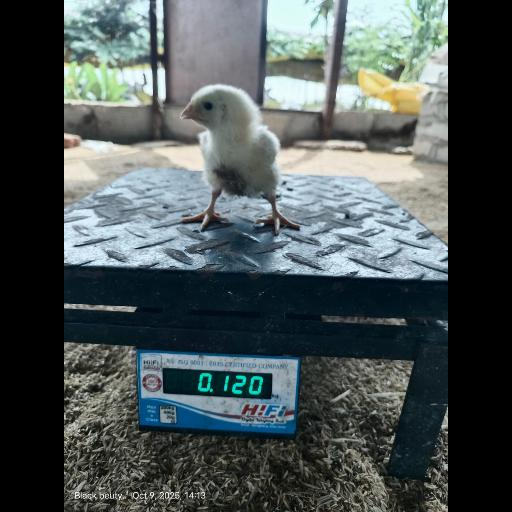chick: (180, 83, 301, 236)
